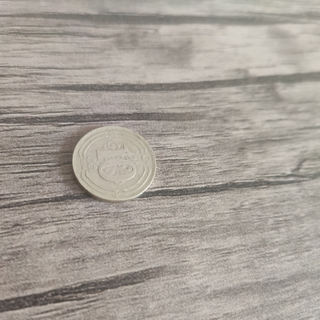10KURUS: (70, 124, 157, 204)
